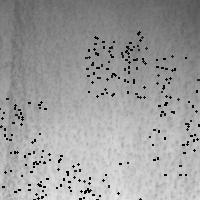pitted_surface: (26, 57, 196, 200), (6, 1, 34, 199), (88, 31, 145, 91), (85, 39, 143, 96), (149, 120, 200, 174), (156, 55, 200, 114), (0, 98, 44, 156), (0, 150, 49, 200), (36, 153, 88, 200), (79, 162, 139, 200), (28, 160, 84, 200)
